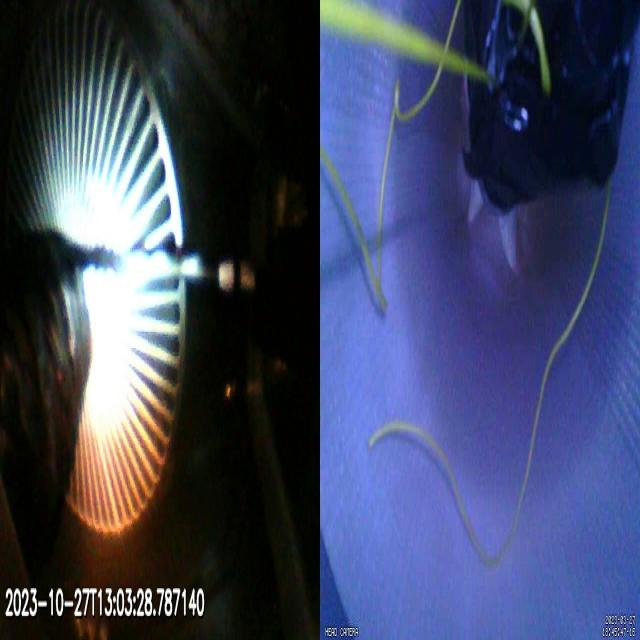white-dots: (218, 257, 272, 299)
